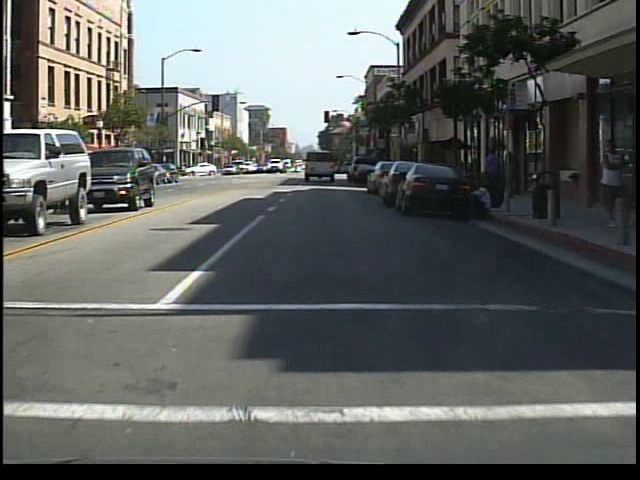person: (594, 125, 628, 236), (482, 142, 506, 204), (499, 150, 522, 205)
